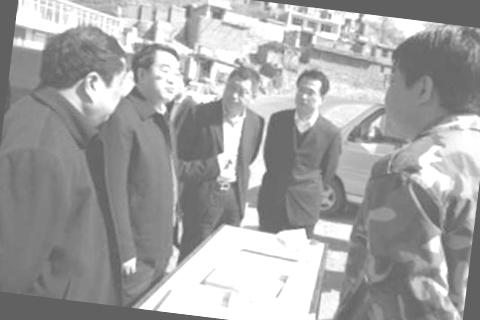no_helmet: (373, 18, 480, 148), (38, 20, 134, 121), (128, 34, 188, 108), (219, 60, 265, 120), (289, 63, 333, 124)
